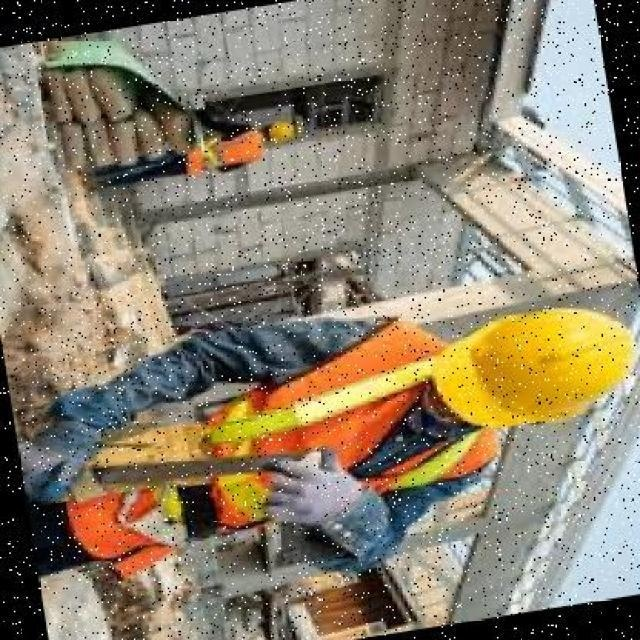Arnes_seguridad: (60, 344, 506, 560), (176, 126, 270, 177)
